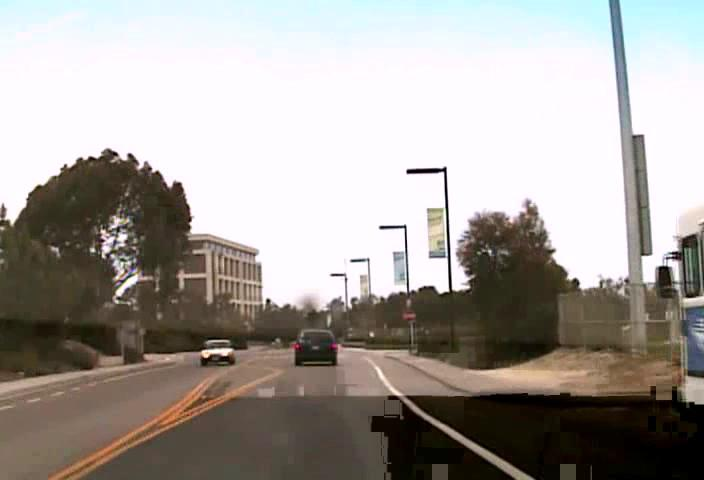stop: (401, 308, 416, 322)
